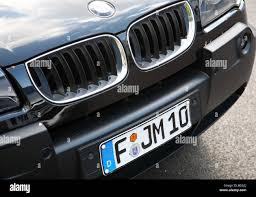0: (178, 104, 189, 129)
1: (166, 110, 180, 136)
F: (113, 135, 130, 166)
J: (139, 123, 154, 151)
M: (151, 117, 166, 145)
